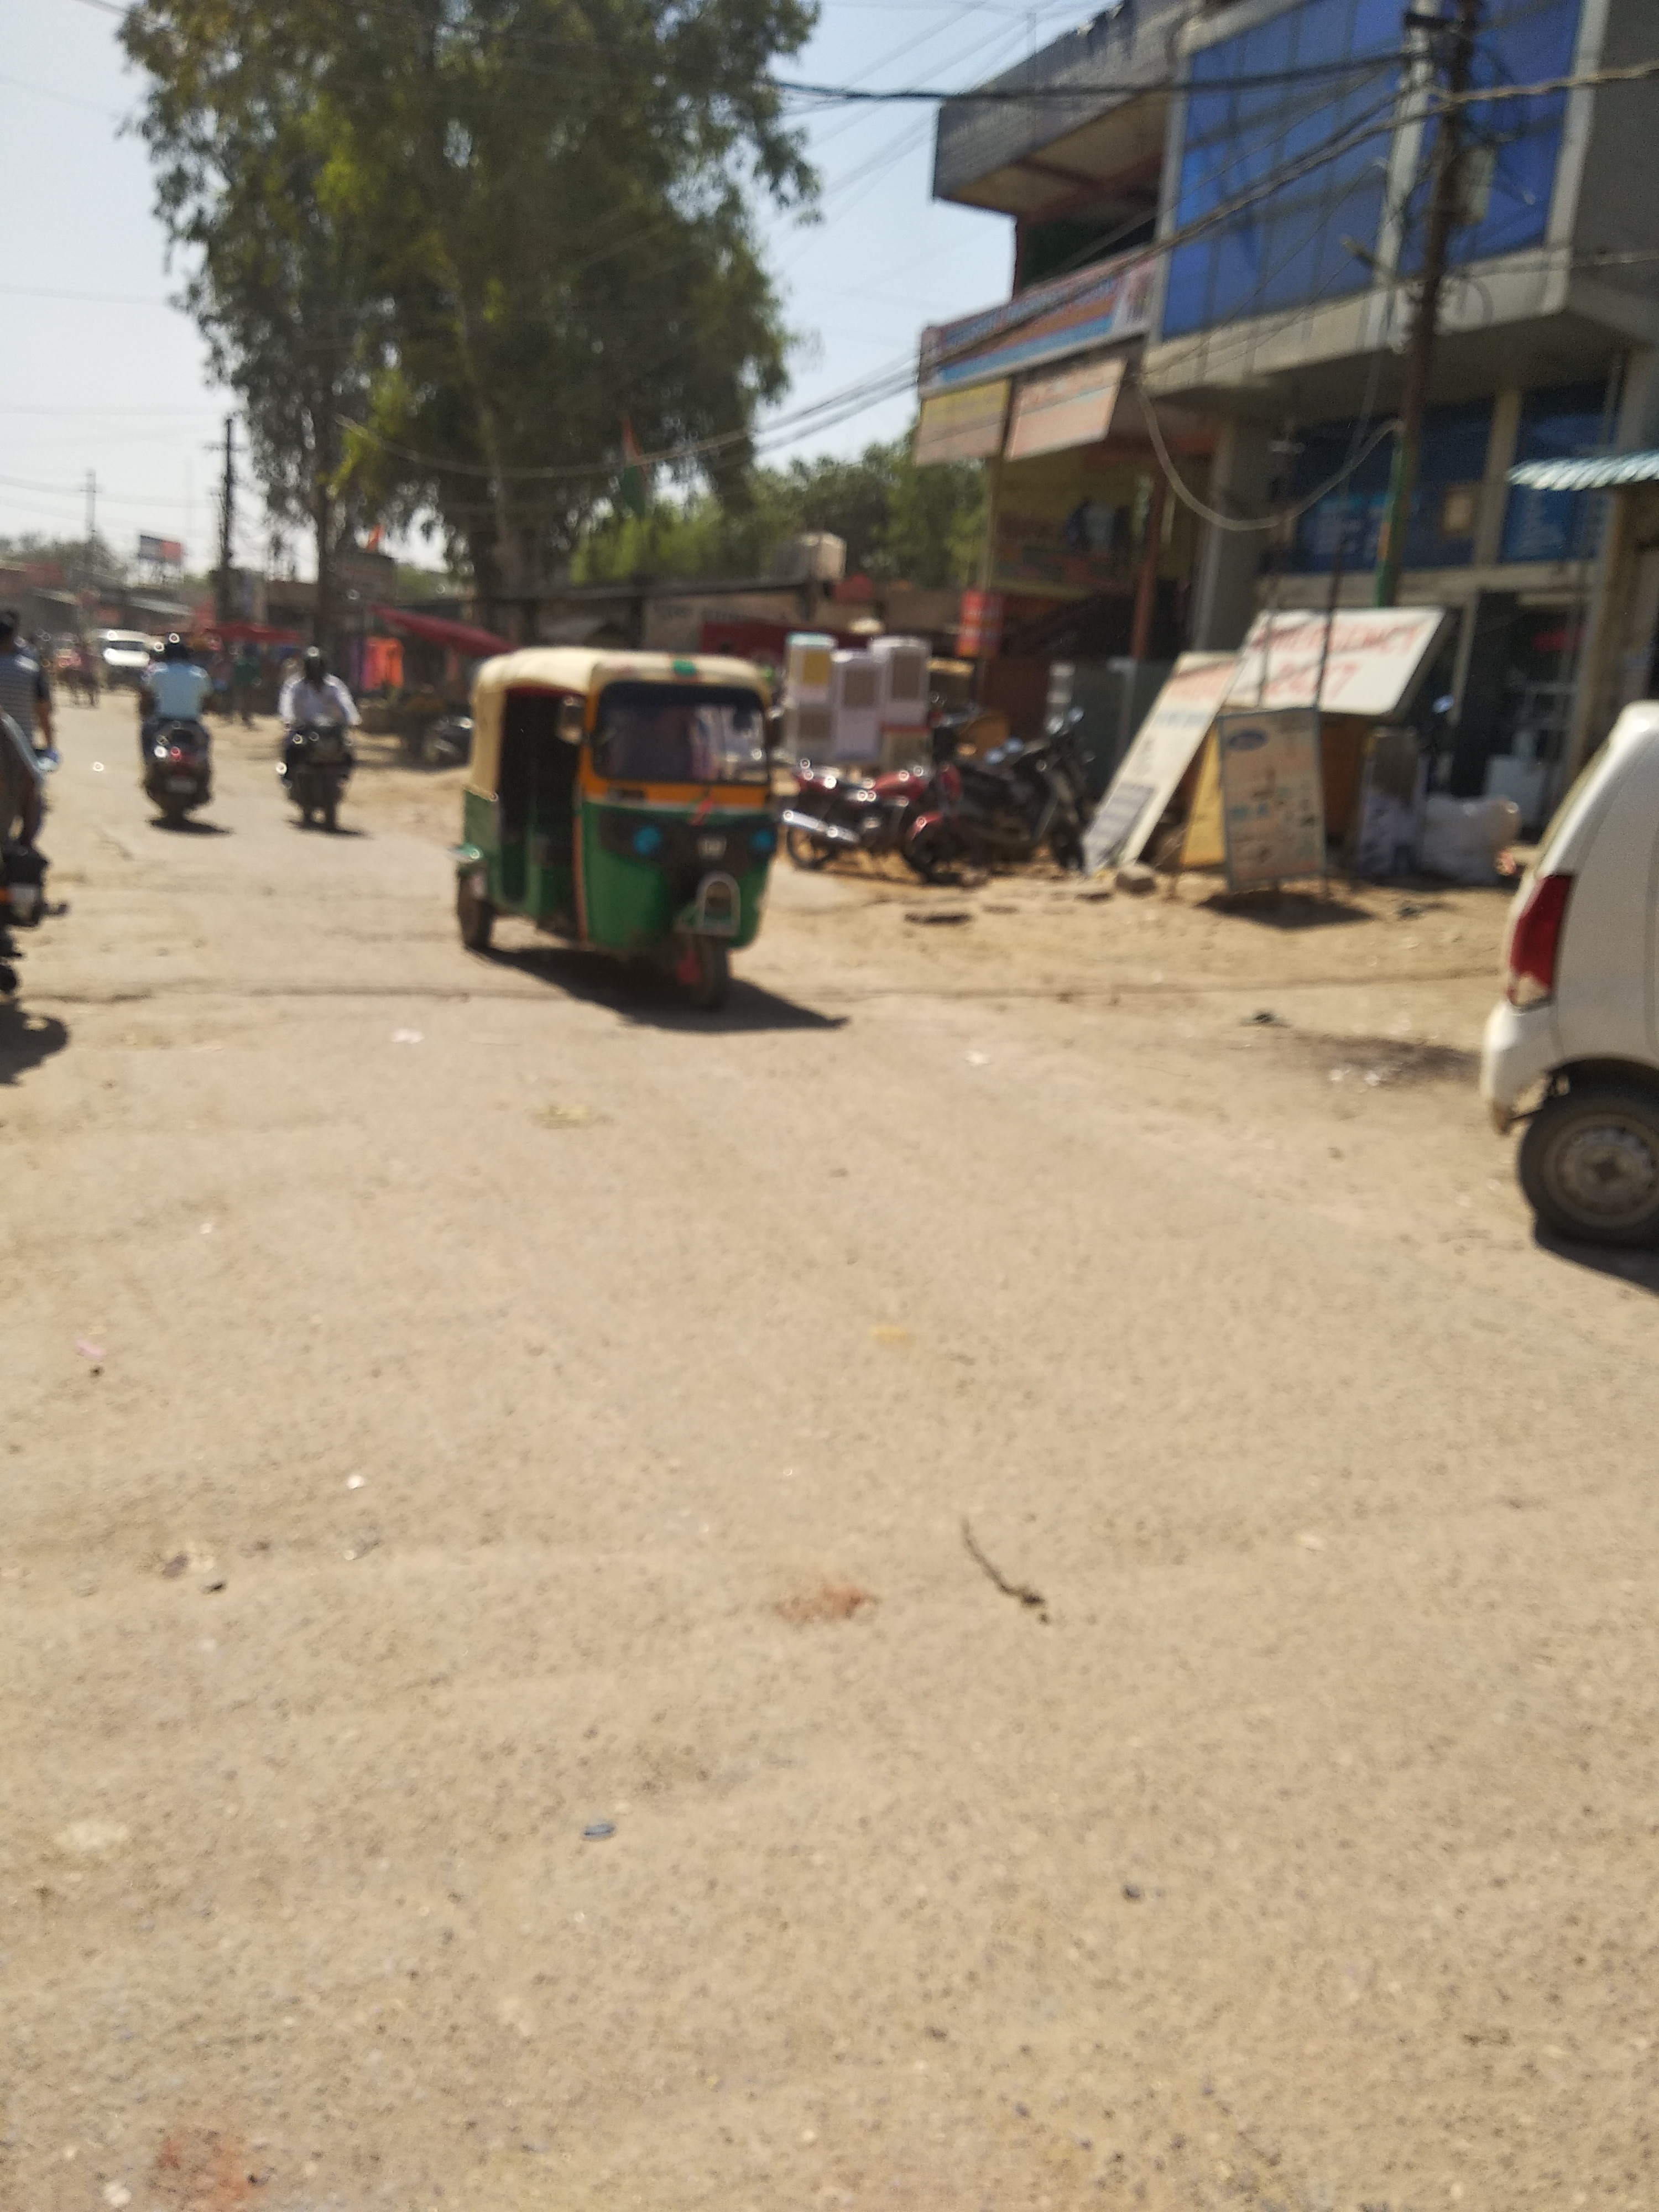auto: (448, 644, 786, 1010)
two_wheelers: (903, 712, 1087, 892), (784, 749, 925, 867), (139, 698, 214, 827), (277, 712, 354, 829)
